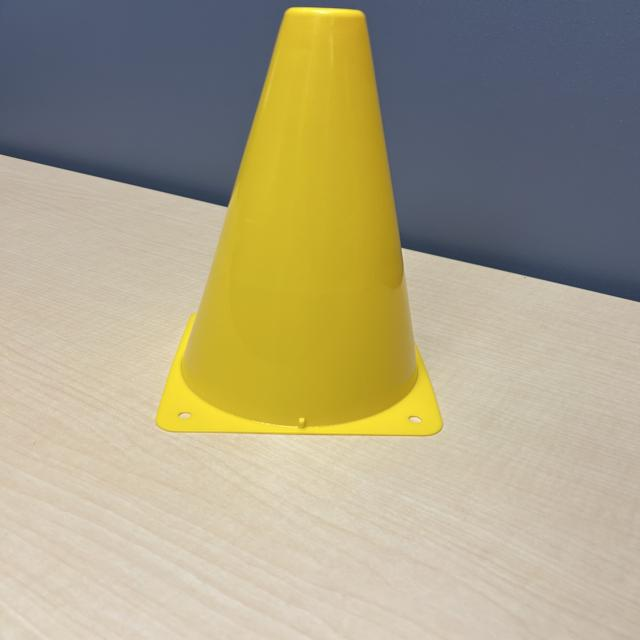yellow cone: (149, 8, 450, 448)
